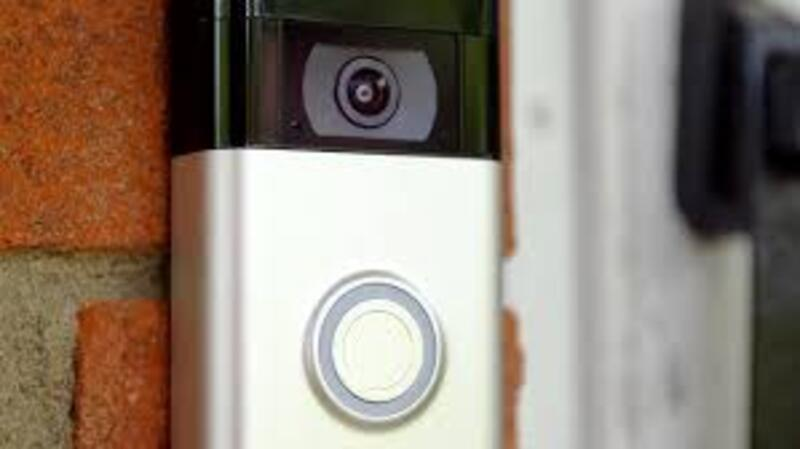doorbell: (231, 12, 487, 438)
